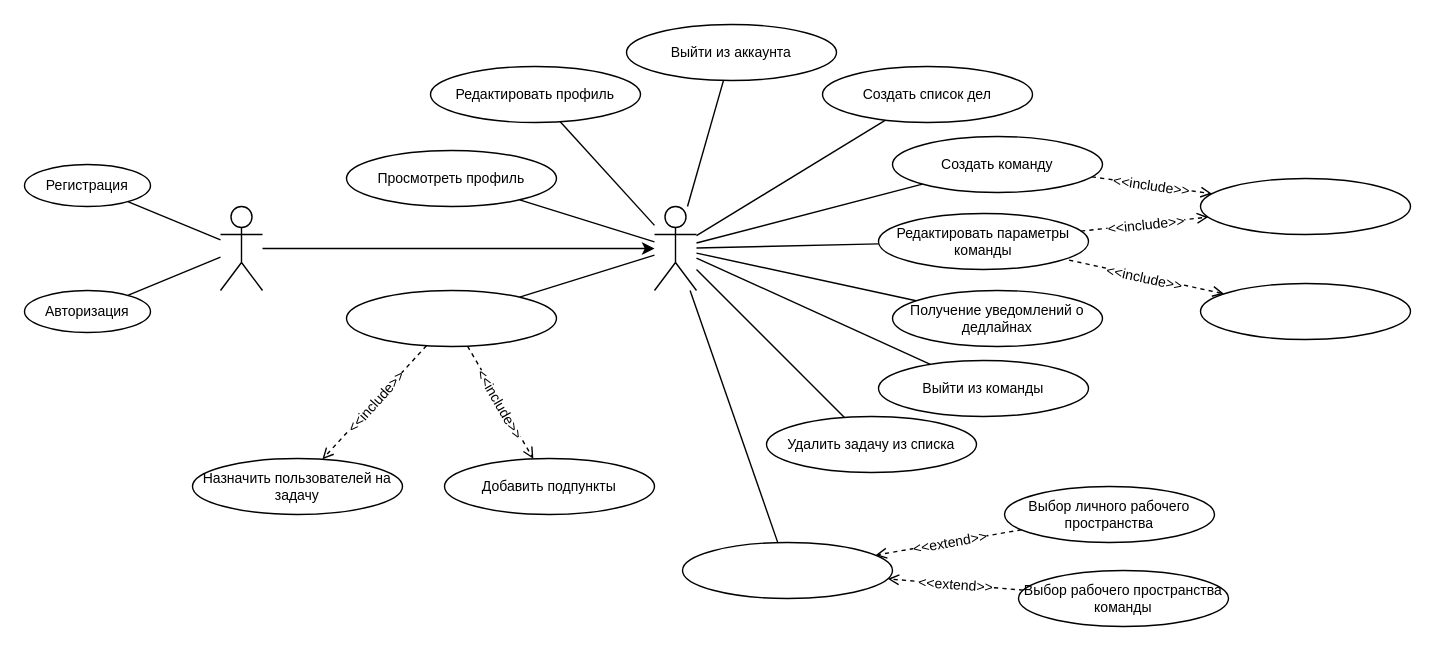
Image size: 1435x651. Some labels were removed from this diagram. Here are the shapes that lost their labels. From the top down, the centre of each, then its label:
point 1304,205: Пригласить пользователей в команду
point 240,247: Неавторизованный пользователь
point 674,247: Авторизованный пользователь
point 450,317: Добавить задачу в список
point 1304,311: Удалить участников команды
point 786,569: Выбор рабочего пространства
